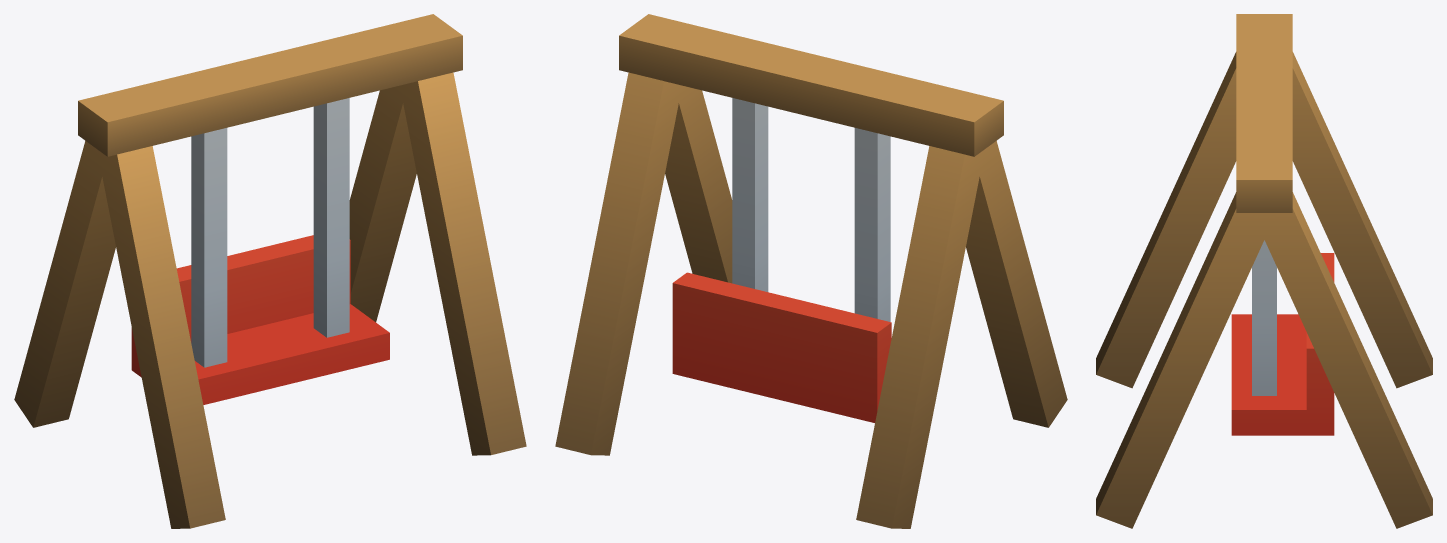
File: Swing.fbx
3 views of the same model, side by side, from view 1: azimuth 30°, elevation 25°; view 2: azimuth 150°, elevation 25°; view 3: azimuth 270°, elevation 25° (orthographic). The views are drawn at different scales.
Parts seen in each view (by area): view 1: Swing; view 2: Swing; view 3: Swing.
Boxes of the visible parts, x1,y1,x2,y2 form: Swing: (14,14,526,528); Swing: (555,14,1067,528); Swing: (1096,14,1432,528).
Size of the model in its own units: 291 by 289 by 249.
